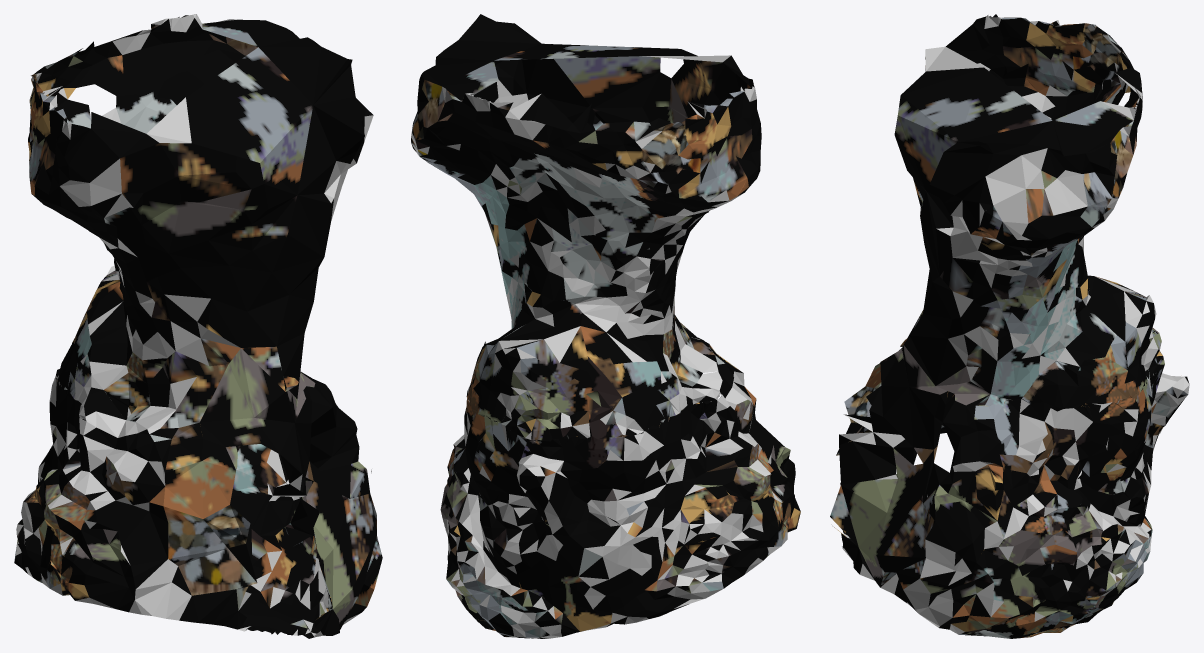
The model's file is woman.gltf.
3 renders of one model, left to right at view 1: azimuth 30°, elevation 25°; view 2: azimuth 150°, elevation 25°; view 3: azimuth 270°, elevation 25°, orthographic. The views are drawn at different scales.
Parts seen in each view (by area): view 1: texturedMesh, texturedMesh.001; view 2: texturedMesh, texturedMesh.001; view 3: texturedMesh, texturedMesh.001.
Part boxes in pixels (left/top/right/bottom): texturedMesh: left=28, top=14, right=373, bottom=446; texturedMesh.001: left=14, top=368, right=382, bottom=638; texturedMesh: left=411, top=14, right=761, bottom=441; texturedMesh.001: left=440, top=322, right=800, bottom=638; texturedMesh: left=894, top=14, right=1164, bottom=411; texturedMesh.001: left=830, top=348, right=1189, bottom=638.
Bounding box in the file's own units: 1.23 × 1.98 × 1.24.
